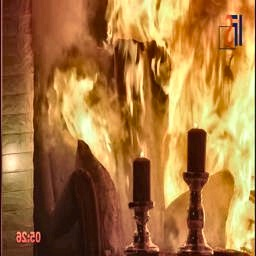fire: (80, 0, 253, 218)
